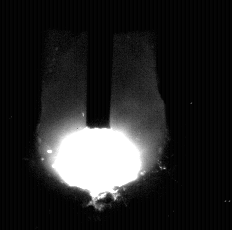arame: (87, 0, 112, 129)
poca: (35, 0, 168, 230)
